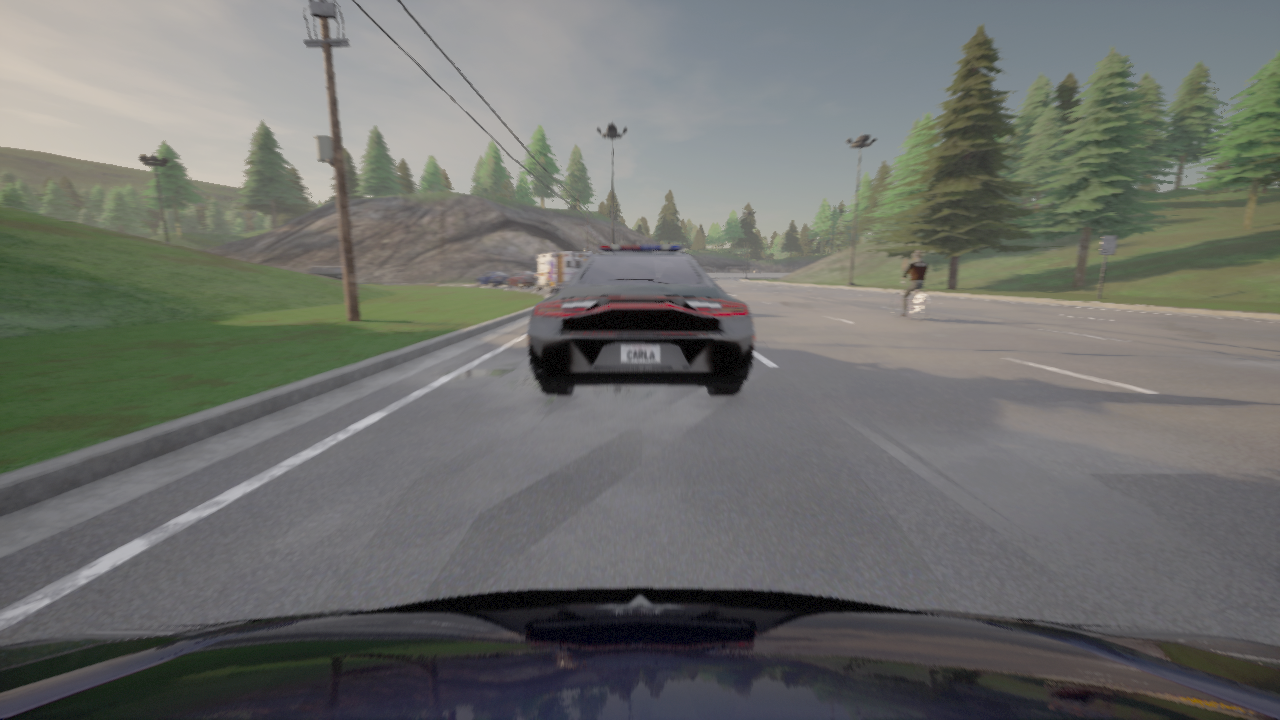cyclist: (0, 588, 1279, 719), (527, 244, 754, 395), (531, 252, 591, 293), (891, 277, 929, 321), (506, 270, 543, 289), (476, 270, 510, 287), (308, 266, 343, 280)
